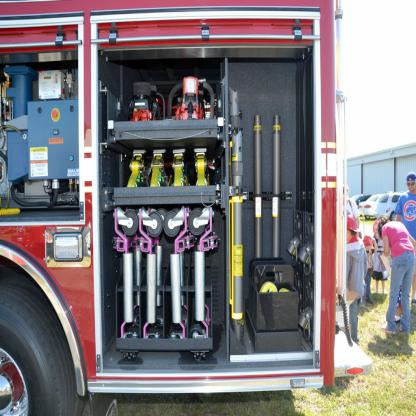Car: (346, 192, 404, 216)
Truck: (0, 0, 361, 399)
